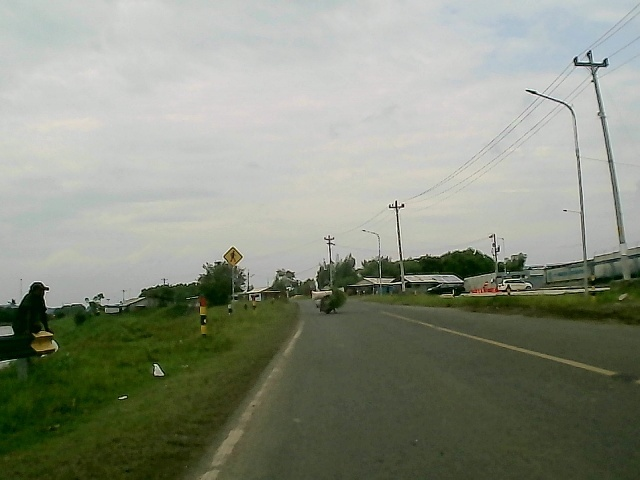Peringatan orang menyeberang: (221, 245, 245, 269)
